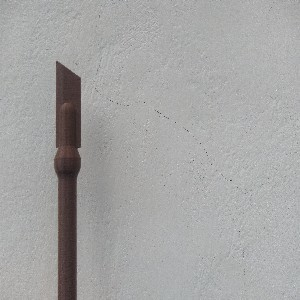cutter: (53, 59, 82, 300)
